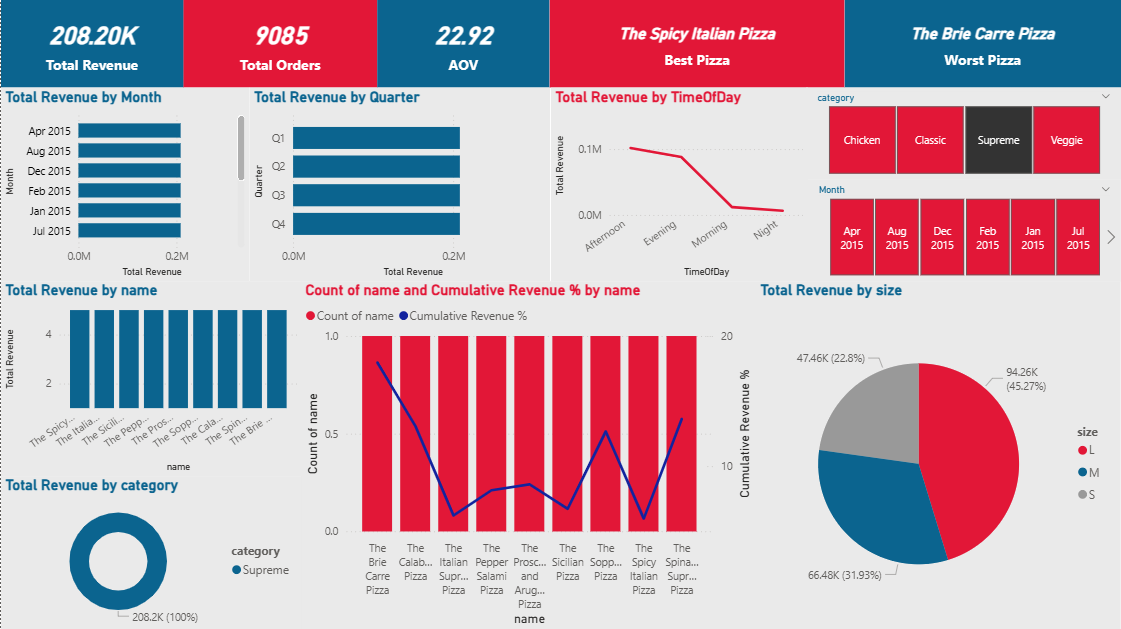

The dashboard page shown, as its layout file describes it:
{"tool":"powerbi","page":{"name":"Page 1","canvas":[1280,720],"ordinal":0},"visuals":[{"type":"card","fields":{"Values":["pizzzas.Total Revenue"]},"box":[0,0,208.6,100],"z":0},{"type":"card","fields":{"Values":["pizzzas.Total Orders"]},"box":[208.6,0,221.4,100],"z":1000},{"type":"card","fields":{"Values":["order_details.AOV"]},"box":[430,0,197.1,100],"z":2000},{"type":"card","fields":{"Values":["pizzzas.Best Pizza"]},"box":[627.1,0,337.1,100],"z":3000},{"type":"card","fields":{"Values":["pizzzas.Worst Pizza"]},"box":[964.3,0,315.7,100],"z":4000},{"type":"barChart","fields":{"Category":["DateTable.Month"],"Y":["pizzzas.Total Revenue"]},"box":[0,100,283.8,221.6],"z":5000},{"type":"slicer","fields":{"Values":["DateTable.Month"]},"box":[921.4,205.7,358.6,115.7],"z":6000},{"type":"clusteredBarChart","fields":{"Category":["DateTable.Quarter"],"Y":["pizzzas.Total Revenue"]},"box":[283.8,100,343.2,221.6],"z":7000},{"type":"lineChart","fields":{"Category":["orders.TimeOfDay"],"Y":["pizzzas.Total Revenue"]},"box":[628.4,100,293.2,221.6],"z":8000},{"type":"slicer","fields":{"Values":["pizza_types.category"]},"box":[920,100,360,105.7],"z":9000},{"type":"pieChart","fields":{"Category":["pizzzas.size"],"Y":["pizzzas.Total Revenue"]},"box":[862.9,321.4,417.1,398.6],"z":10000},{"type":"clusteredColumnChart","fields":{"Category":["pizza_types.name"],"Y":["pizzzas.Total Revenue"]},"box":[0,321.6,343.2,223],"z":11000},{"type":"lineStackedColumnComboChart","fields":{"Y":["CountNonNull(pizza_types.name)"],"Y2":["order_details.Cumulative Revenue %"],"Category":["pizza_types.name"]},"box":[342.9,321.4,520,398.6],"z":12000},{"type":"donutChart","fields":{"Category":["pizza_types.category"],"Y":["pizzzas.Total Revenue"]},"box":[0,544.6,343.2,175.7],"z":13000}]}

Visuals, with their boxes in screenshot pixels (x1, y1, x2, y2), scaled from the page's 1280x720 canvas onto the 1121x629 screenshot:
card - pizzzas.Total Revenue: bbox=(0, 0, 183, 87)
card - pizzzas.Total Orders: bbox=(183, 0, 377, 87)
card - order_details.AOV: bbox=(377, 0, 549, 87)
card - pizzzas.Best Pizza: bbox=(549, 0, 844, 87)
card - pizzzas.Worst Pizza: bbox=(845, 0, 1120, 87)
barChart - DateTable.Month x pizzzas.Total Revenue: bbox=(0, 87, 249, 281)
slicer - DateTable.Month: bbox=(807, 180, 1120, 281)
clusteredBarChart - DateTable.Quarter x pizzzas.Total Revenue: bbox=(249, 87, 549, 281)
lineChart - orders.TimeOfDay x pizzzas.Total Revenue: bbox=(550, 87, 807, 281)
slicer - pizza_types.category: bbox=(806, 87, 1120, 180)
pieChart - pizzzas.size x pizzzas.Total Revenue: bbox=(756, 281, 1120, 628)
clusteredColumnChart - pizza_types.name x pizzzas.Total Revenue: bbox=(0, 281, 301, 476)
lineStackedColumnComboChart - CountNonNull(pizza_types.name) x order_details.Cumulative Revenue %: bbox=(300, 281, 756, 628)
donutChart - pizza_types.category x pizzzas.Total Revenue: bbox=(0, 476, 301, 628)
